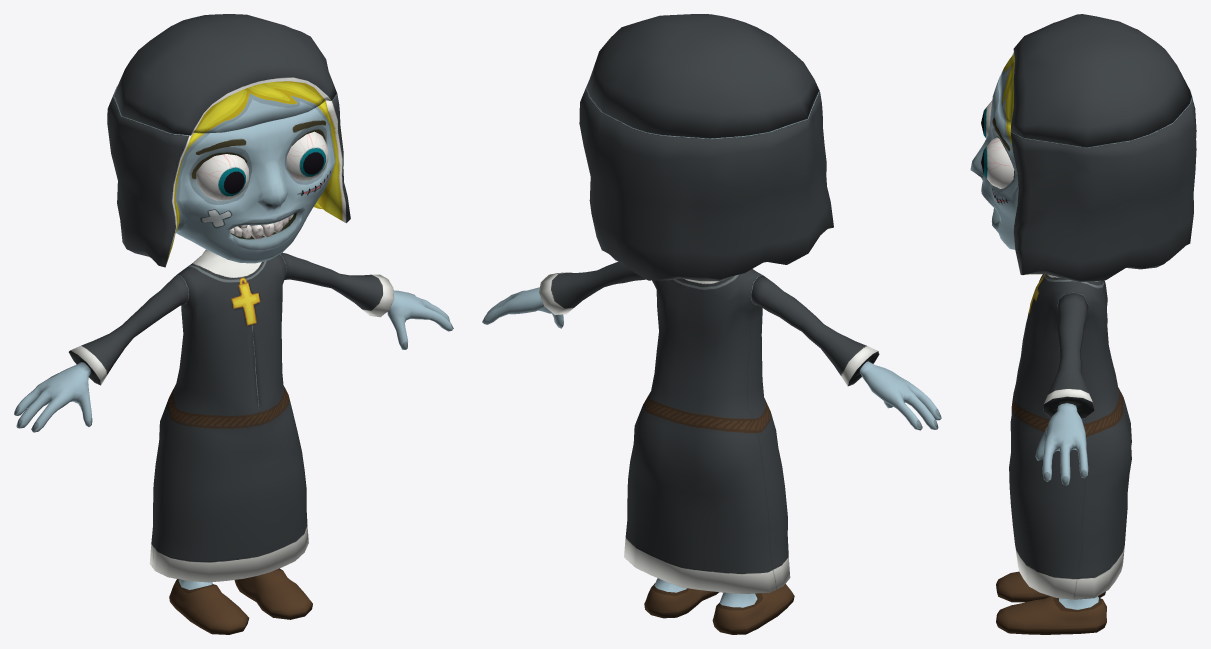
Rendered from zmb(без скелета) (2).FBX.
3 views of the same model, side by side, from view 1: azimuth 30°, elevation 25°; view 2: azimuth 150°, elevation 25°; view 3: azimuth 270°, elevation 25° (orthographic). The views are drawn at different scales.
Parts seen in each view (by area): view 1: body.001, cup_of_head, hand_r., hand_l, eye_L, eye_R; view 2: body.001, cup_of_head, hand_r., hand_l; view 3: body.001, cup_of_head, hand_l, eye_R.
Boxes of the visible parts, x1=… form: body.001: x1=107, y1=86, x2=350, y2=634; cup_of_head: x1=114, y1=14, x2=336, y2=135; hand_r.: x1=14, y1=275, x2=188, y2=432; hand_l: x1=280, y1=252, x2=453, y2=349; eye_L: x1=196, y1=154, x2=248, y2=200; eye_R: x1=286, y1=131, x2=328, y2=180; body.001: x1=579, y1=84, x2=833, y2=634; cup_of_head: x1=586, y1=14, x2=819, y2=138; hand_r.: x1=751, y1=275, x2=941, y2=430; hand_l: x1=482, y1=261, x2=645, y2=328; body.001: x1=970, y1=76, x2=1196, y2=634; cup_of_head: x1=998, y1=14, x2=1191, y2=147; hand_l: x1=1035, y1=292, x2=1094, y2=485; eye_R: x1=981, y1=137, x2=1014, y2=188.
Size of the model in its own units: 0.9316 by 0.4139 by 1.16.
